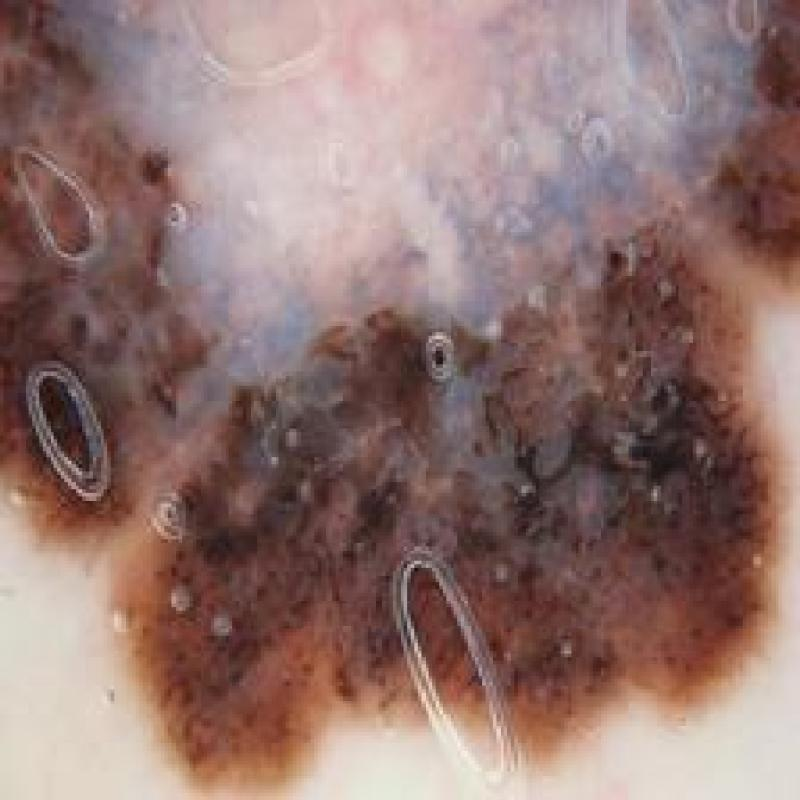malignant: (155, 256, 787, 786), (0, 0, 207, 521)
